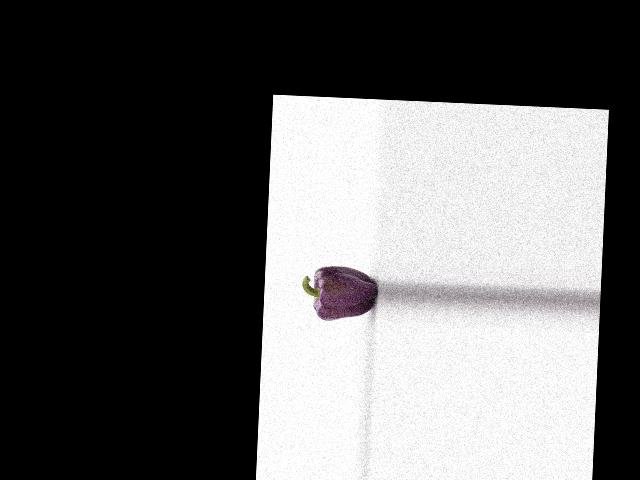bell_pepper: (301, 258, 377, 326)
